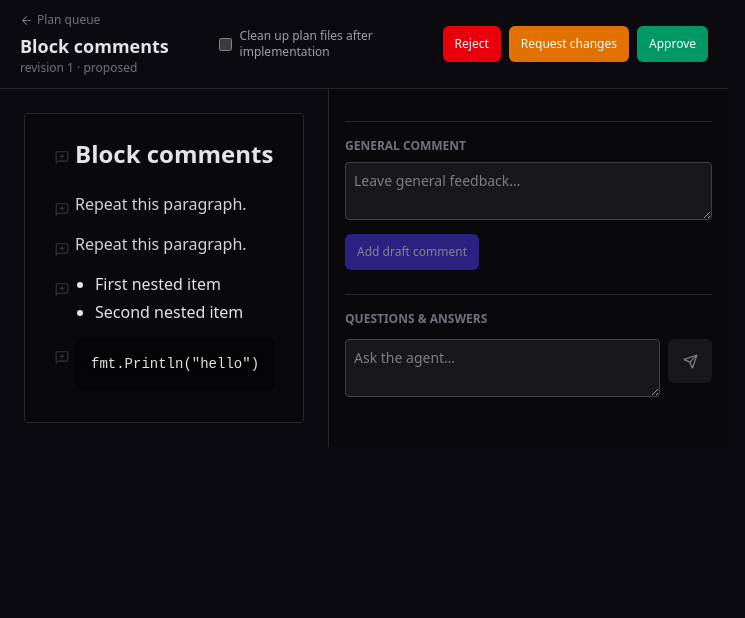
Test case: PlanPage block comments › shows saved general feedback at the bottom of the document
Type "Overall note" into the text box named "General plan comment" at (528, 191), box x1=345 y1=162 x2=712 y2=220
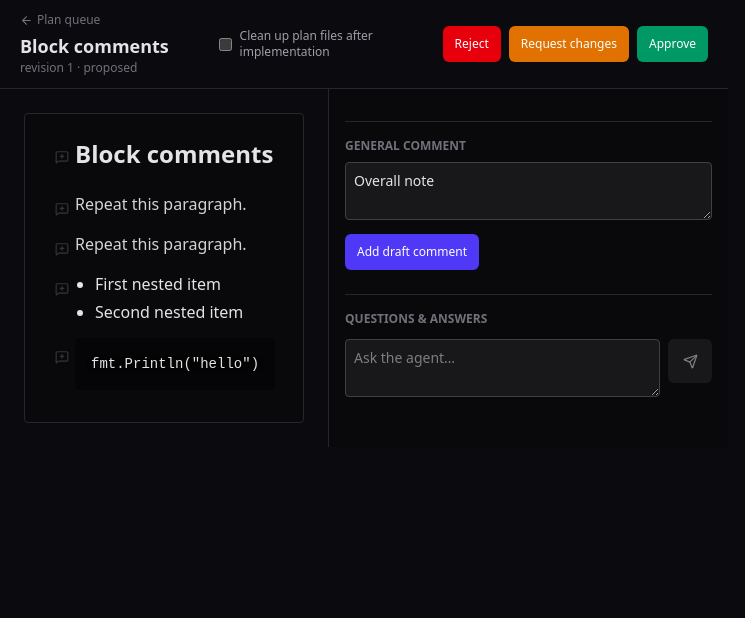
Press Enter in the text box named "General plan comment", box x1=345 y1=162 x2=712 y2=220
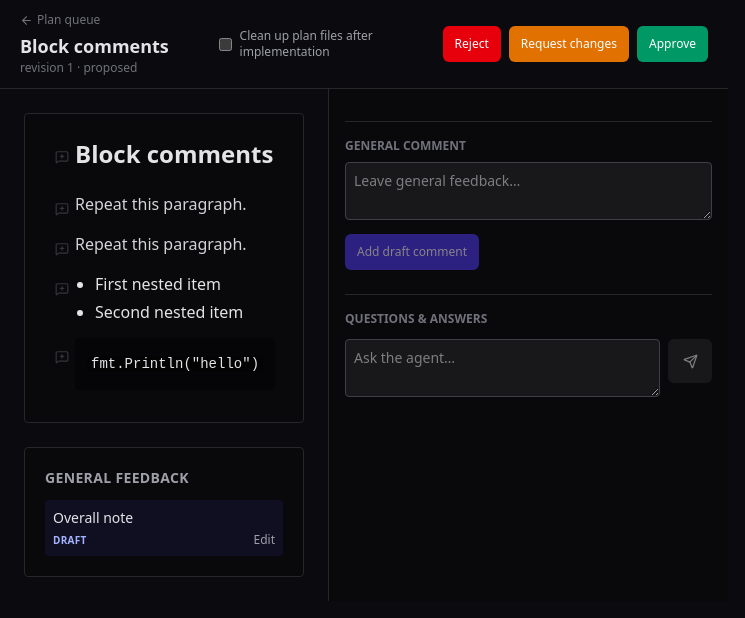
Check: the text "Overall note" is shown, box x1=53 y1=508 x2=133 y2=527
